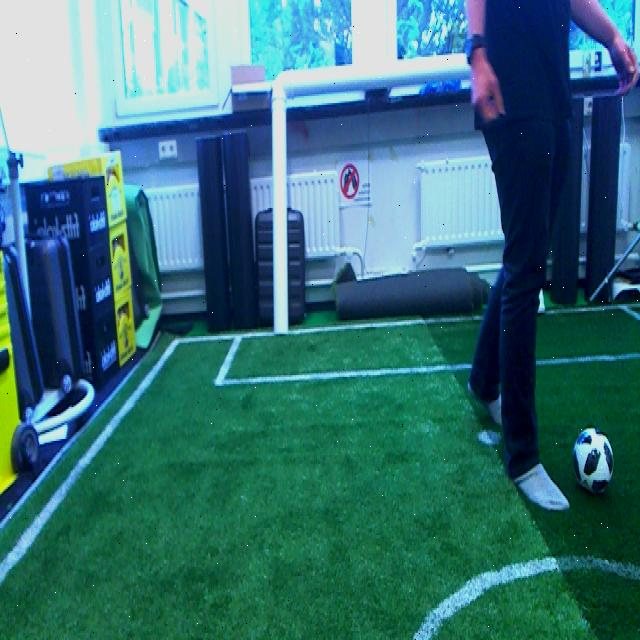ball: (572, 428, 614, 494)
goalpost: (274, 71, 289, 334)
